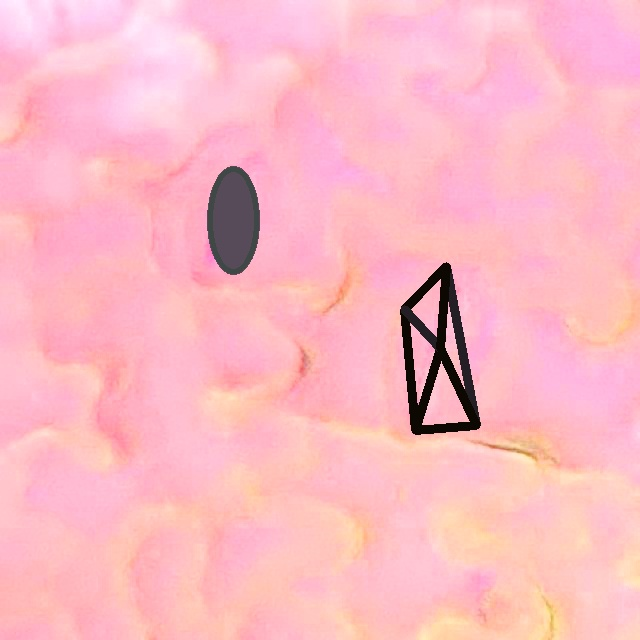open: (401, 262, 480, 433), (207, 167, 259, 274)
